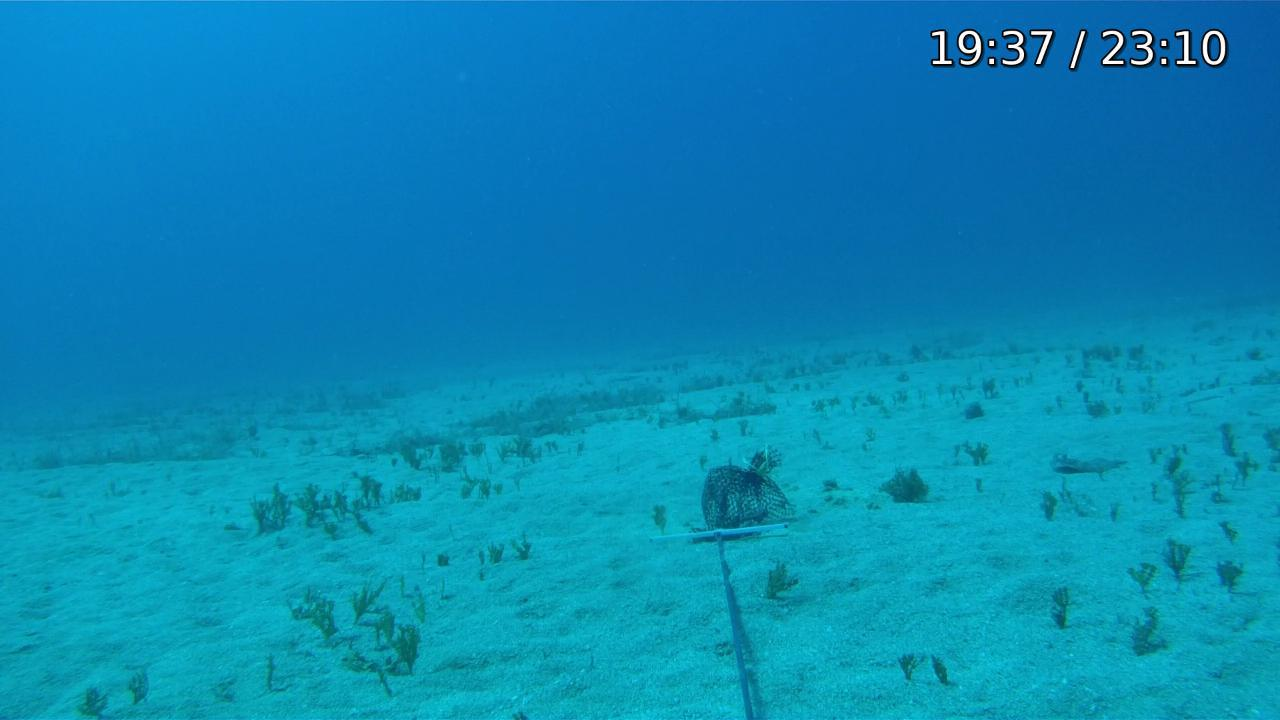bothus: (1042, 450, 1129, 480)
